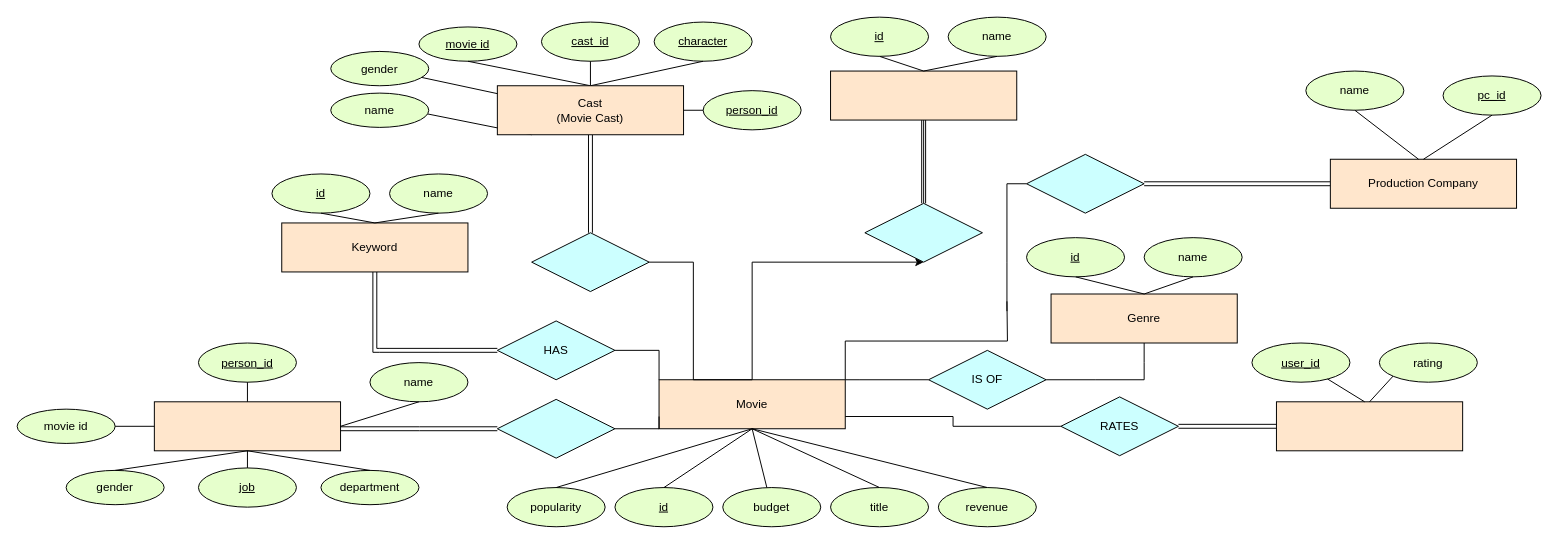
The diagram is 1558 pixels wide and 544 high, and some of its shapes have lost their labels. Here are the shapes that lost their labels. From the top down, the box of each, then its label:
(830, 70, 1017, 120): Collection
(1026, 153, 1144, 213): PRODUCES
(864, 202, 982, 262): PART OF
(531, 232, 649, 292): PLAYS IN
(153, 401, 341, 451): Crew Member (Movie Crew)
(496, 398, 615, 458): WORKS IN
(1275, 401, 1463, 451): User
